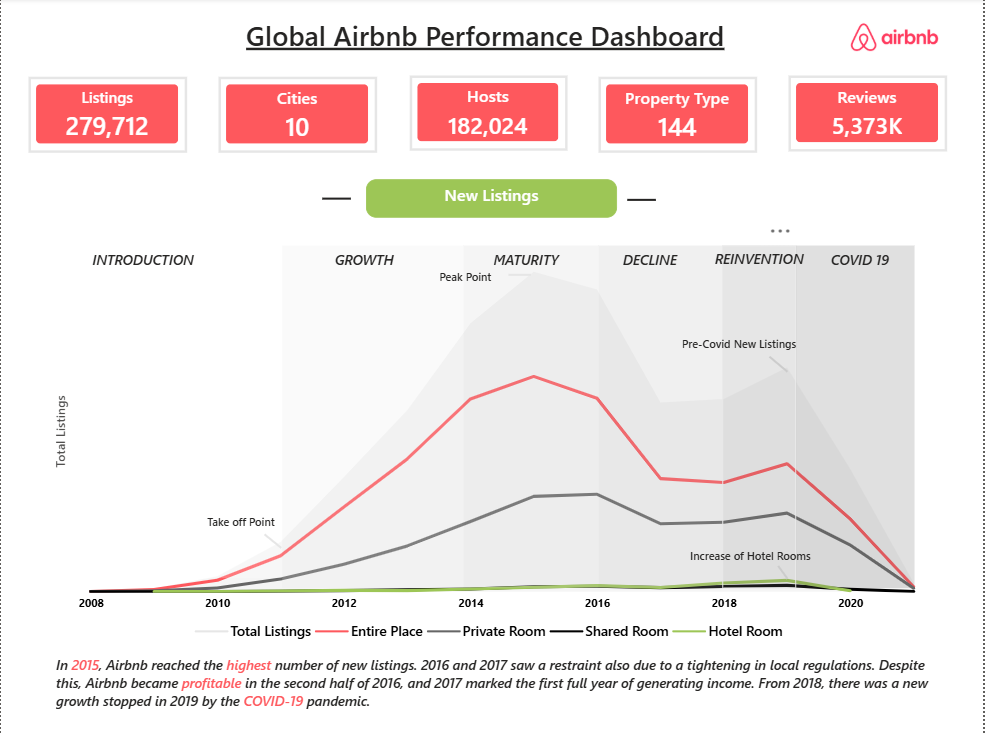

What the dashboard file says about the page in this screenshot:
{"tool":"powerbi","page":{"name":"Overview","canvas":[960,720],"ordinal":0},"visuals":[{"type":"textbox","box":[234.2,13.5,491.6,50.1],"z":0},{"type":"image","box":[799.7,12.2,149.2,51.4],"z":1000},{"type":"cardVisual","fields":{"Data":["CountNonNull(Listings.listing_id)"]},"box":[26.9,76.5,155.3,74.6],"z":2000},{"type":"cardVisual","fields":{"Data":["Count(Reviews.review_id)"]},"box":[770.4,75.3,155.3,74.6],"z":3000},{"type":"cardVisual","fields":{"Data":["Count(Listings.property_type)"]},"box":[584.2,76.5,155.3,74.6],"z":4000},{"type":"cardVisual","fields":{"Data":["Count(Listings.host_id)"]},"box":[399.3,75.3,154.1,73.4],"z":5000},{"type":"cardVisual","fields":{"Data":["Count(Listings.city)"]},"box":[213.1,77,155.3,74.6],"z":6000},{"type":"lineChart","fields":{"Category":["Listings.host_since.Variation.Date Hierarchy.Year","Listings.host_since.Variation.Date Hierarchy.Quarter","Listings.host_since.Variation.Date Hierarchy.Month","Listings.host_since.Variation.Date Hierarchy.Day"],"Y":["Count(Listings.listing_id)","Listings.Entire Place","Listings.Private Room","Listings.Shared Room","Listings.Hotel Room"]},"box":[49,253.1,862.1,385.2],"z":7000},{"type":"textbox","box":[357.1,177.3,245.8,37.9],"z":8000},{"type":"shape","box":[314.3,181,28.1,30.6],"z":9000},{"type":"shape","box":[612.6,182.2,28.1,30.6],"z":10000},{"type":"shape","box":[48.9,232.3,226.2,335.1],"z":11000},{"type":"shape","box":[275.1,242.1,177.3,335.1],"z":12000},{"type":"shape","box":[452.4,242.1,132.1,335.1],"z":13000},{"type":"shape","box":[584.5,242.1,121.1,335.1],"z":14000},{"type":"shape","box":[705.6,242.1,72.1,335.1],"z":15000},{"type":"shape","box":[777.7,242.1,116.2,335.1],"z":16000},{"type":"textbox","box":[78.3,242.1,121.1,34.2],"z":17000},{"type":"textbox","box":[314.3,242.1,81.9,48.9],"z":18000},{"type":"textbox","box":[476.9,242.1,90.5,39.1],"z":19000},{"type":"textbox","box":[567.4,242.1,134.5,39.1],"z":20000},{"type":"textbox","box":[661.6,240.9,160.2,36.7],"z":21000},{"type":"textbox","box":[777.7,242.1,124.7,48.9],"z":22000},{"type":"shape","box":[256.8,514.8,18.3,33],"z":23000},{"type":"textbox","box":[178.5,497.7,112.5,33],"z":24000},{"type":"shape","box":[750.8,291,19.6,134.5],"z":25000},{"type":"textbox","box":[634.7,322.8,174.9,36.7],"z":26000},{"type":"shape","box":[496.5,253.1,22,35.5],"z":27000},{"type":"textbox","box":[399.9,258,108.8,37.9],"z":28000},{"type":"shape","box":[759.4,520.9,11,81.9],"z":29000},{"type":"textbox","box":[661.6,530.7,143.1,35.5],"z":30000},{"type":"textbox","box":[48.9,638.3,876.8,80.7],"z":31000}]}

Visuals, with their boxes in screenshot pixels (x1, y1, x2, y2), scaled from the page's 960x720 canvas onto the 985x733 screenshot:
textbox: (240,14,745,65)
image: (821,12,974,65)
cardVisual - CountNonNull(Listings.listing_id): (28,78,187,154)
cardVisual - Count(Reviews.review_id): (790,77,950,153)
cardVisual - Count(Listings.property_type): (599,78,759,154)
cardVisual - Count(Listings.host_id): (410,77,568,151)
cardVisual - Count(Listings.city): (219,78,378,154)
lineChart - Listings.host_since.Variation.Date Hierarchy.Year x Listings.host_since.Variation.Date Hierarchy.Quarter: (50,258,935,650)
textbox: (366,181,619,219)
shape: (322,184,351,215)
shape: (629,185,657,217)
shape: (50,236,282,578)
shape: (282,246,464,588)
shape: (464,246,600,588)
shape: (600,246,724,588)
shape: (724,246,798,588)
shape: (798,246,917,588)
textbox: (80,246,205,281)
textbox: (322,246,407,296)
textbox: (489,246,582,286)
textbox: (582,246,720,286)
textbox: (679,245,843,283)
textbox: (798,246,926,296)
shape: (263,524,282,558)
textbox: (183,507,299,540)
shape: (770,296,790,433)
textbox: (651,329,831,366)
shape: (509,258,532,294)
textbox: (410,263,522,301)
shape: (779,530,790,614)
textbox: (679,540,826,576)
textbox: (50,650,950,732)
